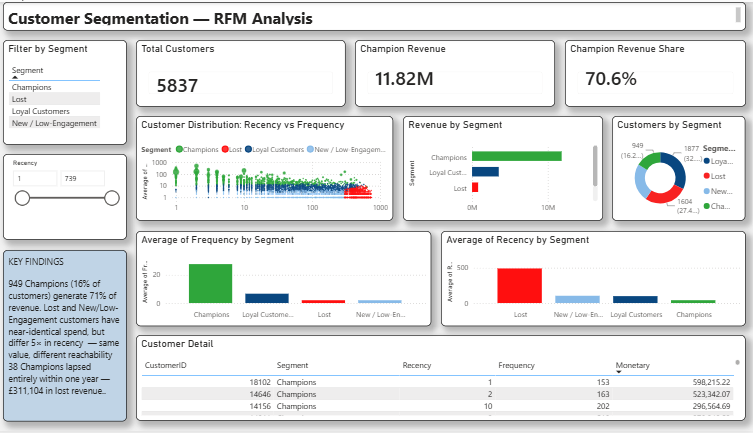

The page's visual inventory and layout, read from the dashboard file:
{"tool":"powerbi","page":{"name":"Page 1","canvas":[1280,720],"ordinal":0},"visuals":[{"type":"cardVisual","title":"Total Customers","fields":{"Data":["CountNonNull(rfm_segments.CustomerID)"]},"box":[240,64,352,112],"z":0},{"type":"cardVisual","title":"Champion Revenue","fields":{"Data":["Sum(rfm_segments.Monetary)"]},"box":[608,64,336,112],"z":1000},{"type":"cardVisual","title":"Champion Revenue Share","fields":{"Data":["rfm_segments.Champion Revenue %"]},"box":[960,64,304,112],"z":2000},{"type":"donutChart","title":"Customers by Segment","fields":{"Category":["rfm_segments.Segment"],"Y":["CountNonNull(rfm_segments.CustomerID)"]},"box":[1040,192,224,176],"z":3000},{"type":"barChart","title":"Revenue by Segment","fields":{"Category":["rfm_segments.Segment"],"Y":["Sum(rfm_segments.Monetary)"]},"box":[688,192,336,176],"z":4000},{"type":"tableEx","title":"Customer Detail","fields":{"Values":["rfm_segments.CustomerID","rfm_segments.Segment","rfm_segments.Recency","rfm_segments.Frequency","rfm_segments.Monetary"]},"box":[240,560,1024,144],"z":5000},{"type":"clusteredColumnChart","fields":{"Category":["rfm_segments.Segment"],"Y":["Avg(rfm_segments.Recency)"]},"box":[752,384,512,160],"z":6000},{"type":"clusteredColumnChart","fields":{"Category":["rfm_segments.Segment"],"Y":["Avg(rfm_segments.Frequency)"]},"box":[240,384,496,160],"z":7000},{"type":"tableEx","title":"Filter by Segment","fields":{"Values":["rfm_segments.Segment"]},"box":[16,64,208,176],"z":8000},{"type":"slicer","fields":{"Values":["rfm_segments.Recency"]},"box":[16,256,208,144],"z":9000},{"type":"scatterChart","title":"Customer Distribution: Recency vs Frequency","fields":{"Category":["rfm_segments.CustomerID"],"X":["Avg(rfm_segments.Recency)"],"Y":["Avg(rfm_segments.Frequency)"],"Series":["rfm_segments.Segment"],"Size":["Sum(rfm_segments.Monetary)"]},"box":[240,192,432,176],"z":10000},{"type":"textbox","box":[16,0,1248,48],"z":11000},{"type":"textbox","box":[16,416,208,288],"z":12000}]}

Visuals, with their boxes in screenshot pixels (x1, y1, x2, y2), scaled from the page's 1280x720 canvas onto the 753x433 screenshot:
"Total Customers" cardVisual: [x1=141, y1=38, x2=348, y2=106]
"Champion Revenue" cardVisual: [x1=358, y1=38, x2=555, y2=106]
"Champion Revenue Share" cardVisual: [x1=565, y1=38, x2=744, y2=106]
"Customers by Segment" donutChart: [x1=612, y1=115, x2=744, y2=221]
"Revenue by Segment" barChart: [x1=405, y1=115, x2=602, y2=221]
"Customer Detail" tableEx: [x1=141, y1=337, x2=744, y2=423]
clusteredColumnChart - rfm_segments.Segment x Avg(rfm_segments.Recency): [x1=442, y1=231, x2=744, y2=327]
clusteredColumnChart - rfm_segments.Segment x Avg(rfm_segments.Frequency): [x1=141, y1=231, x2=433, y2=327]
"Filter by Segment" tableEx: [x1=9, y1=38, x2=132, y2=144]
slicer - rfm_segments.Recency: [x1=9, y1=154, x2=132, y2=241]
"Customer Distribution: Recency vs Frequency" scatterChart: [x1=141, y1=115, x2=395, y2=221]
textbox: [x1=9, y1=0, x2=744, y2=29]
textbox: [x1=9, y1=250, x2=132, y2=423]
